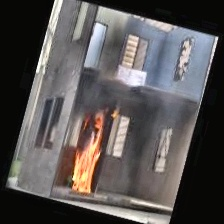fire: (57, 108, 119, 199)
